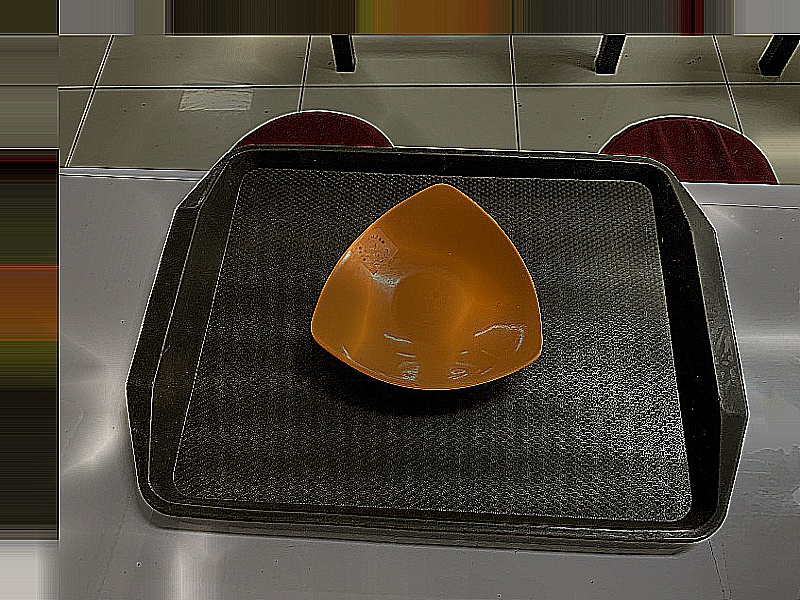dish11: (304, 180, 547, 393)
